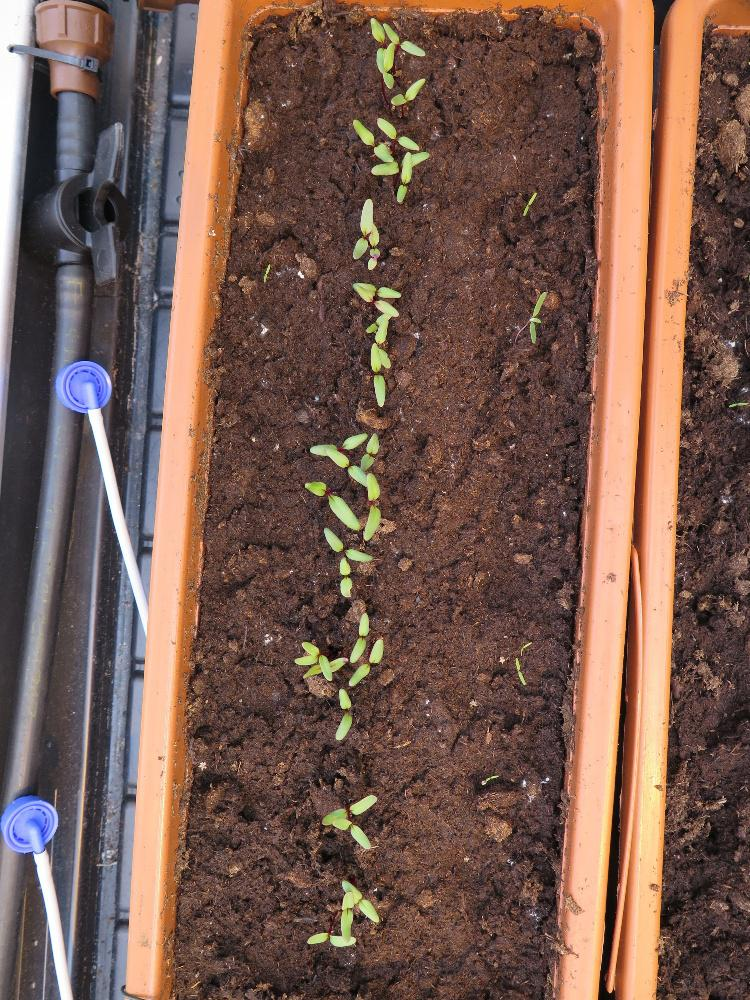crop: (333, 686, 352, 742)
weed: (528, 287, 546, 346), (522, 188, 536, 217), (514, 654, 524, 684), (726, 399, 748, 410), (261, 260, 269, 283)
